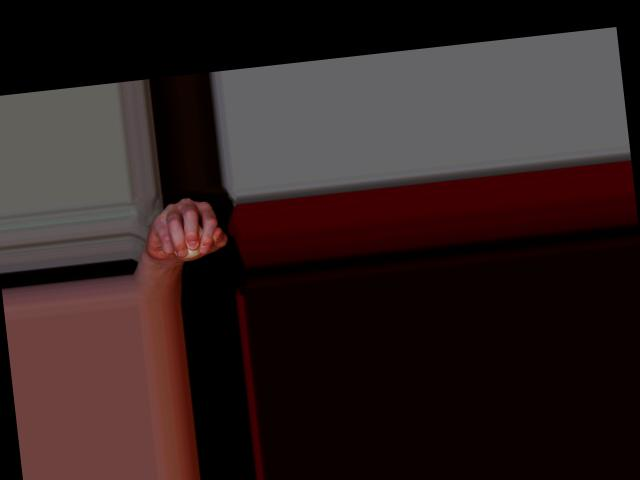egg: (171, 222, 209, 259)
